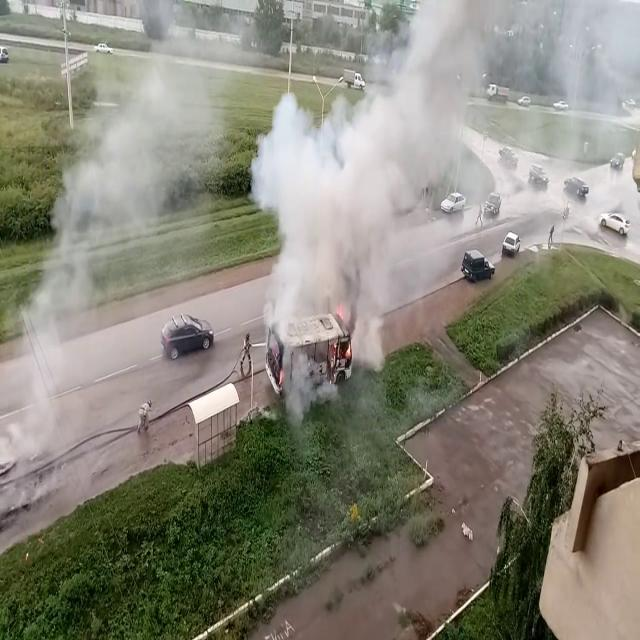Smoke: (251, 0, 638, 364), (5, 17, 233, 543)
